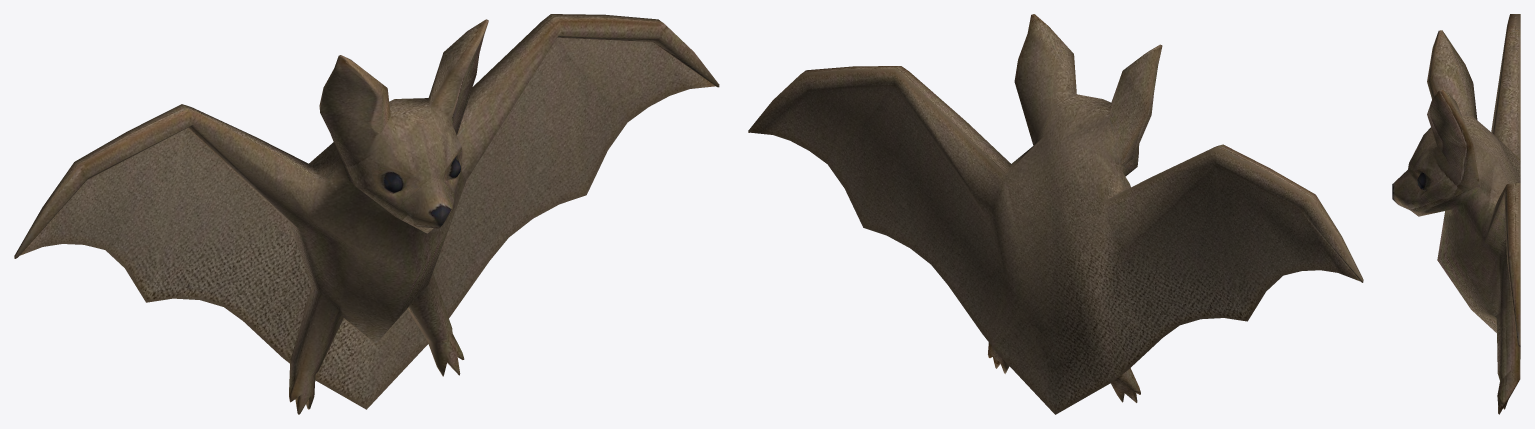
File: bat.glb
The picture shows the model from 3 angles, left to right: view 1: azimuth 30°, elevation 25°; view 2: azimuth 150°, elevation 25°; view 3: azimuth 270°, elevation 25°; orthographic projection. The views are drawn at different scales.
Parts seen in each view (by area): view 1: tripo_node_3fe4375b-cd87-41bf-ae3c-f5e895406c4b; view 2: tripo_node_3fe4375b-cd87-41bf-ae3c-f5e895406c4b; view 3: tripo_node_3fe4375b-cd87-41bf-ae3c-f5e895406c4b.
Boxes of the visible parts, x1=… form: tripo_node_3fe4375b-cd87-41bf-ae3c-f5e895406c4b: x1=14, y1=14, x2=719, y2=414; tripo_node_3fe4375b-cd87-41bf-ae3c-f5e895406c4b: x1=748, y1=14, x2=1363, y2=414; tripo_node_3fe4375b-cd87-41bf-ae3c-f5e895406c4b: x1=1392, y1=14, x2=1520, y2=414.
Bounding box in the file's own units: 0.9995 × 0.5522 × 0.188.
Materials: 1 (1 with a texture image).
